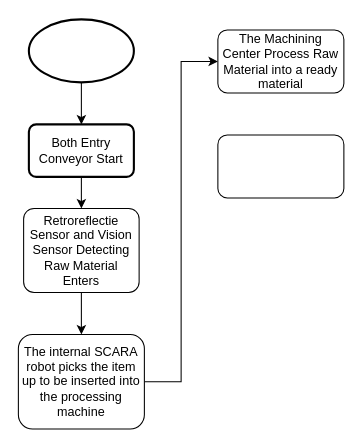
The diagram is 362 pixels wide and 447 high, and some of its shapes have lost their labels. The centre of each missing label's shape, as x and y in pixels:
"Machine Started" belongs at (80,50).
"The SCARA robot picks the item up to be delivered into the Exit" belongs at (280,166).
